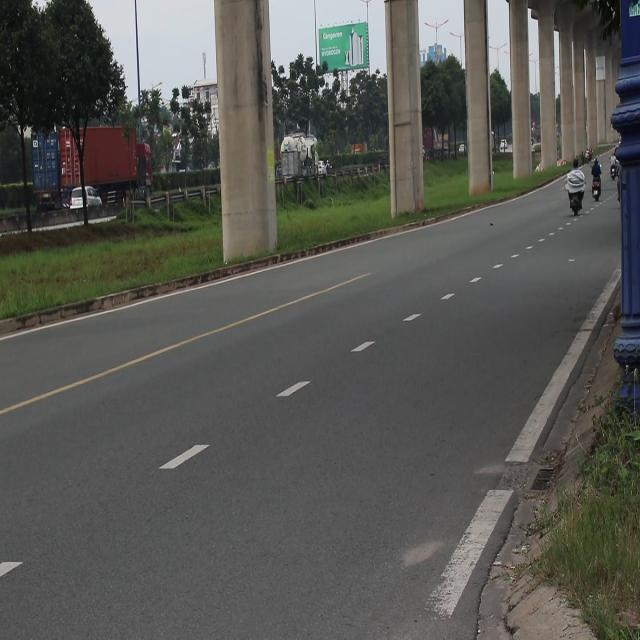car: (64, 186, 103, 208)
motorbike: (568, 183, 582, 217), (589, 177, 601, 206), (608, 157, 618, 183)
truck: (11, 126, 157, 211), (282, 149, 303, 184)
